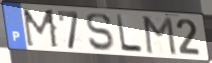2: (175, 18, 203, 58)
7: (56, 10, 81, 51)
L: (115, 13, 145, 54)
M: (21, 7, 61, 50), (142, 15, 178, 57)
S: (85, 12, 115, 53)
